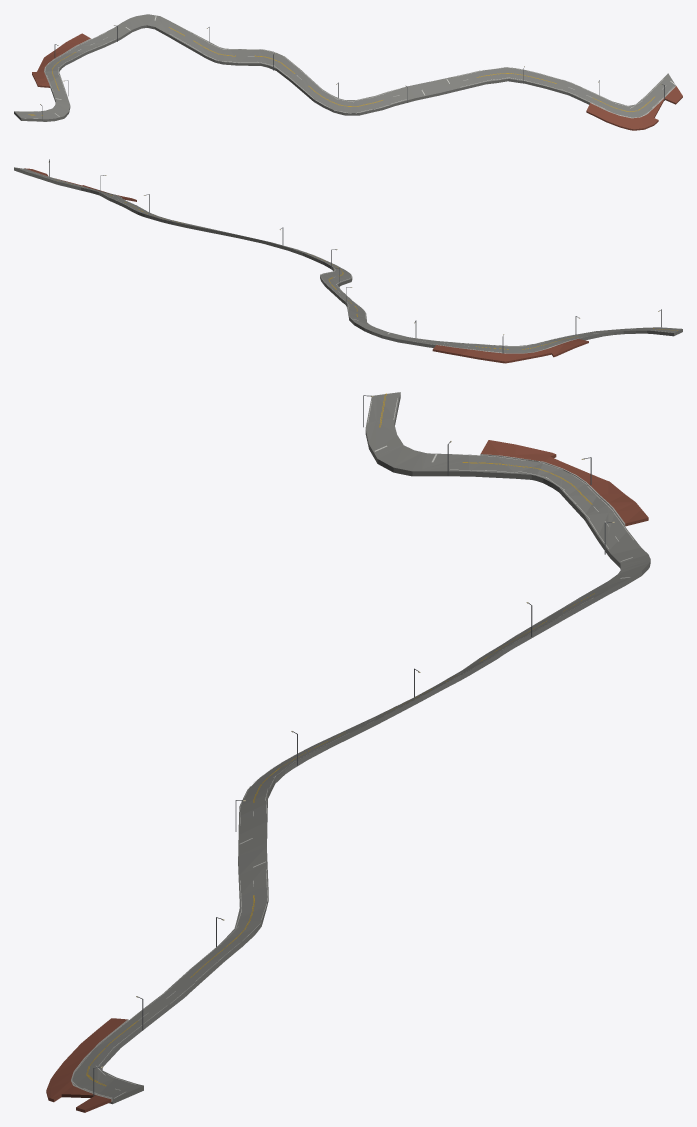
3 views of the same model, one above another, from view 1: azimuth 30°, elevation 25°; view 2: azimuth 150°, elevation 25°; view 3: azimuth 270°, elevation 25° (orthographic). The views are drawn at different scales.
Bounding box in the file's own units: 294 × 45.85 × 130.
